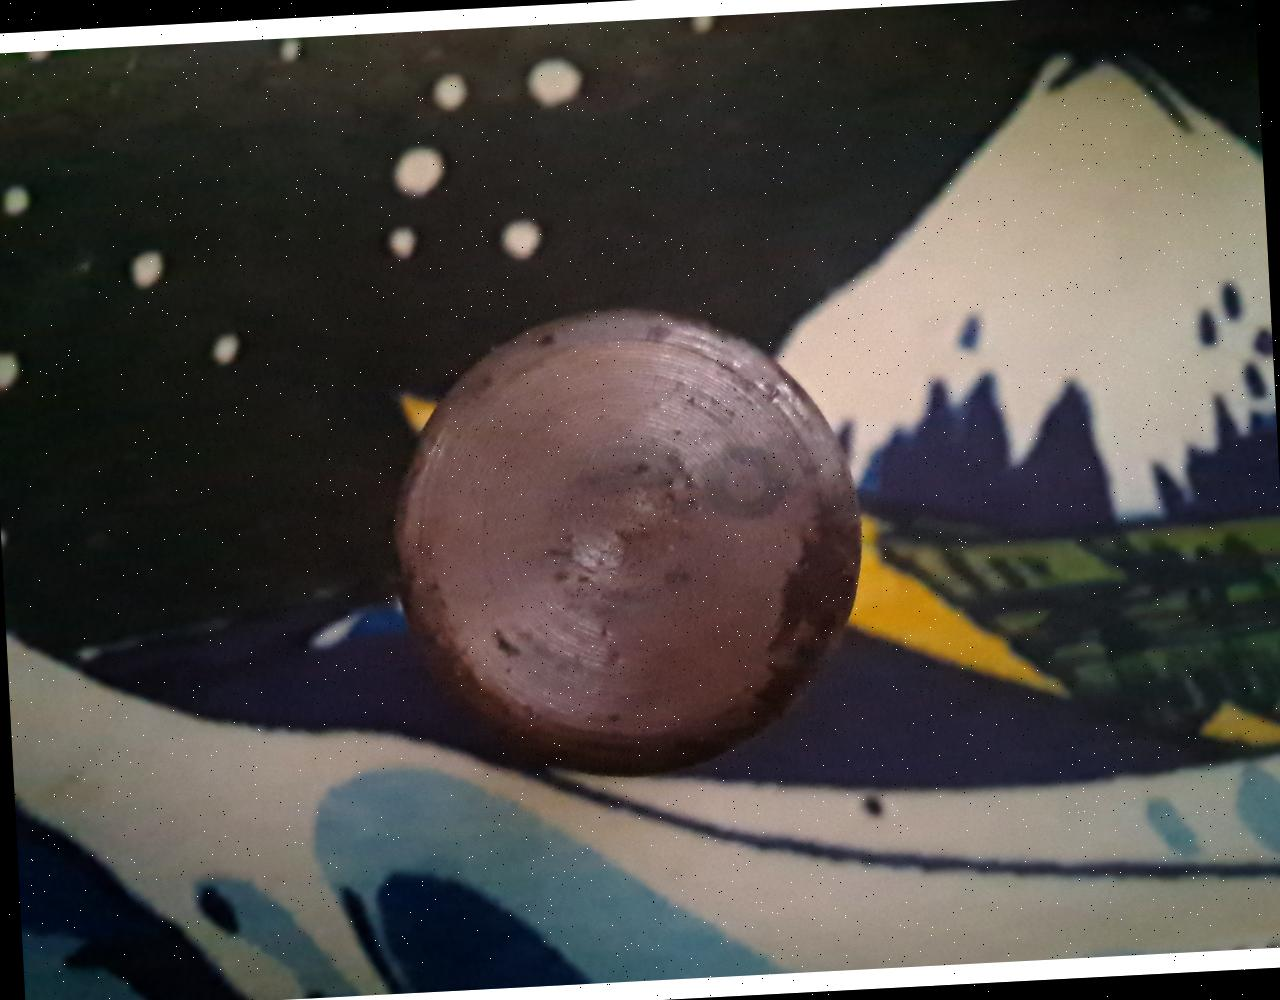defect: (692, 439, 793, 519)
planson: (396, 311, 864, 777)
